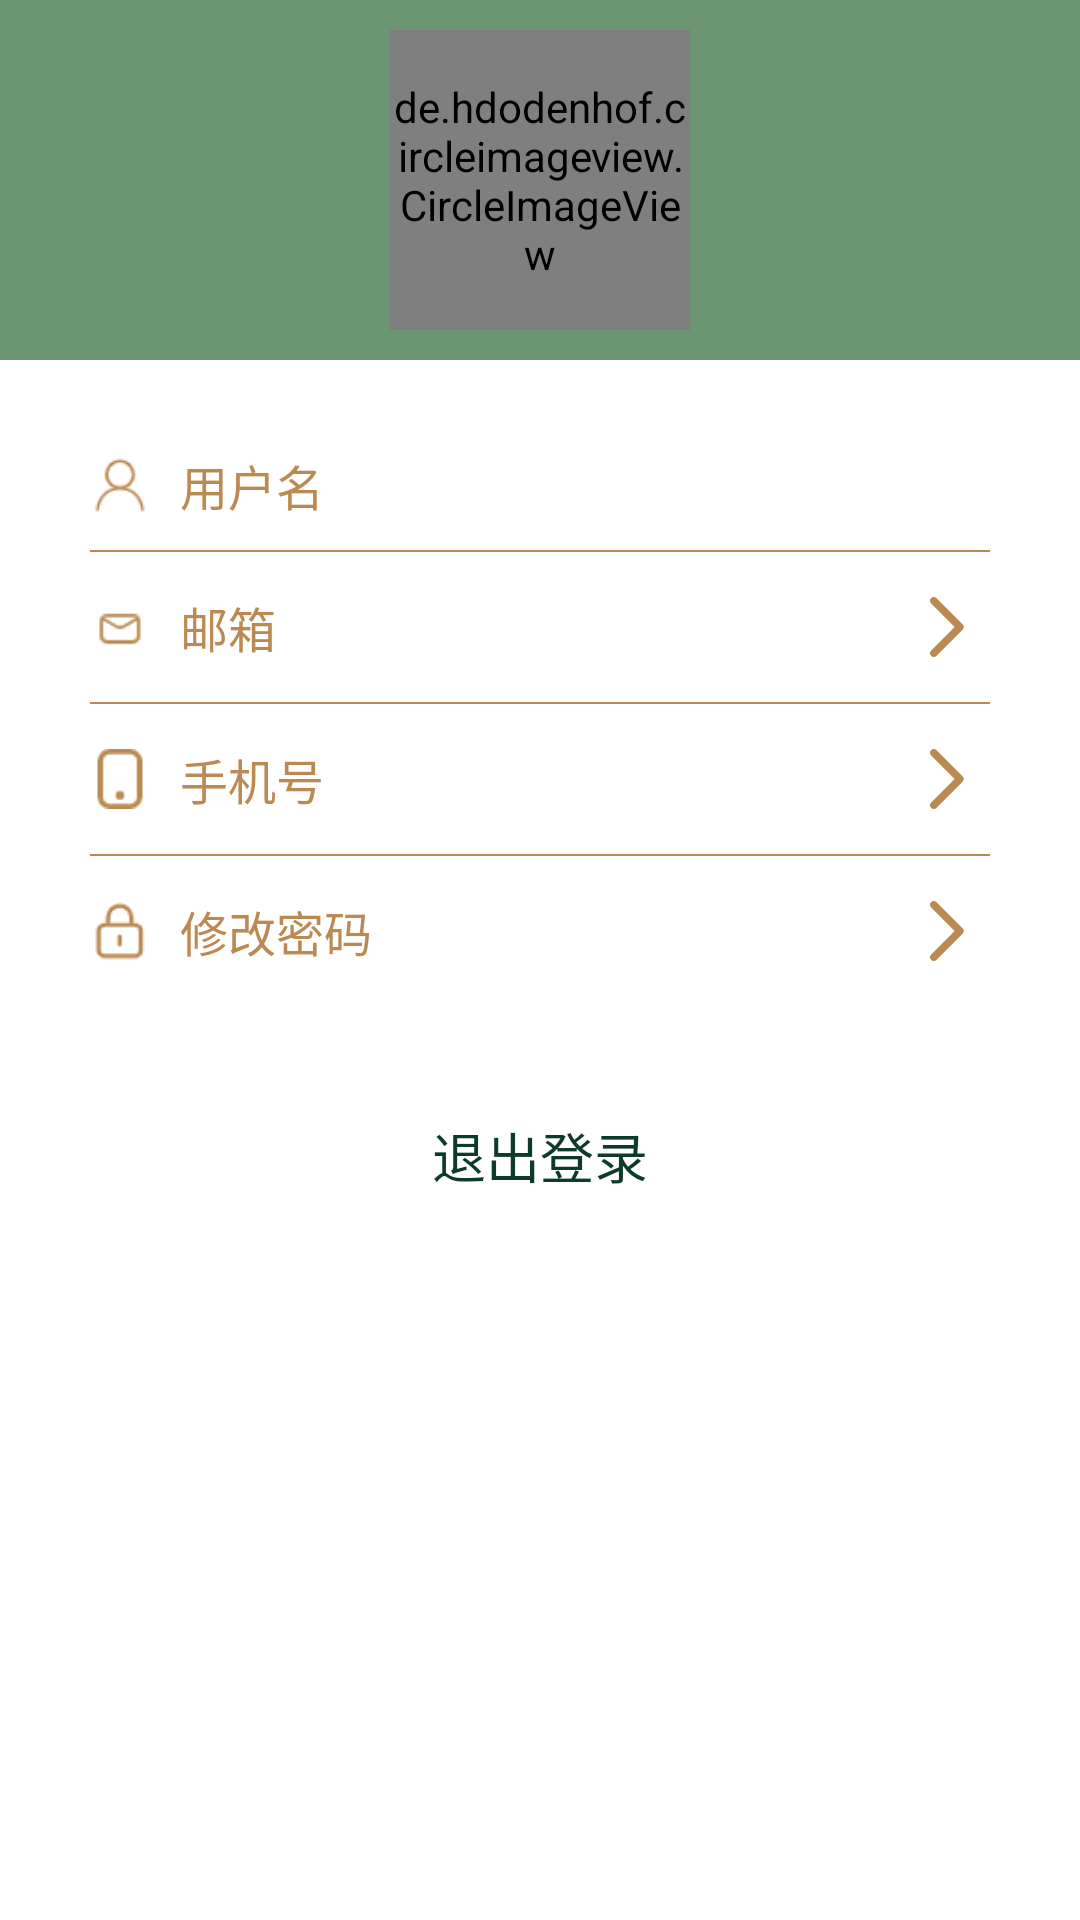

Named icons in this screenshot (1080 × 1920) and their centers, (x=x, y=y):
forword: (x=947, y=627), (x=947, y=779), (x=947, y=931)
mail: (x=120, y=629)
tel: (x=120, y=779)
username: (x=120, y=485)
